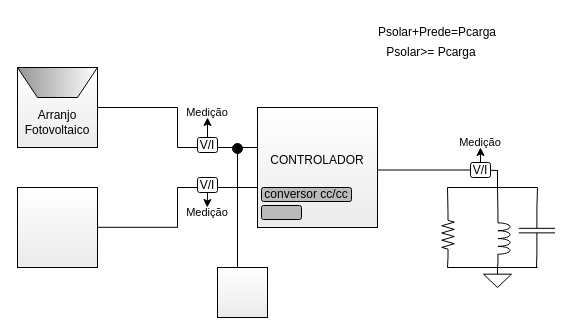
The diagram is 573 pixels wide and 335 high, and some of its shapes have lost their labels. Each missing label, with the centre of its shape:
Banco de baterias: [242,292]
MPPT: [281,212]
REDE: [57,227]
